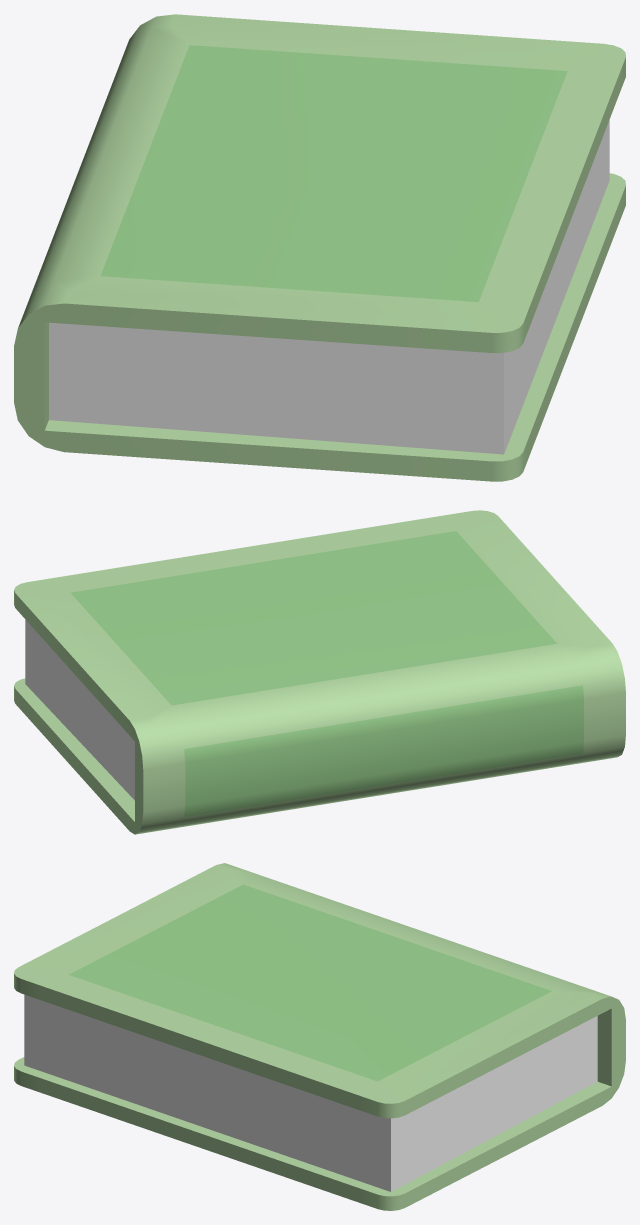
File: book_18.fbx
3 views of the same model, one above another, from view 1: azimuth 30°, elevation 25°; view 2: azimuth 150°, elevation 25°; view 3: azimuth 270°, elevation 25° (orthographic). The views are drawn at different scales.
Parts seen in each view (by area): view 1: book_18; view 2: book_18; view 3: book_18.
Boxes of the visible parts, <box> form: book_18: <box>14,14,625,481</box>; book_18: <box>14,510,625,834</box>; book_18: <box>14,863,625,1210</box>.
Size of the model in its own units: 0.4446 by 0.0886 by 0.4585.
